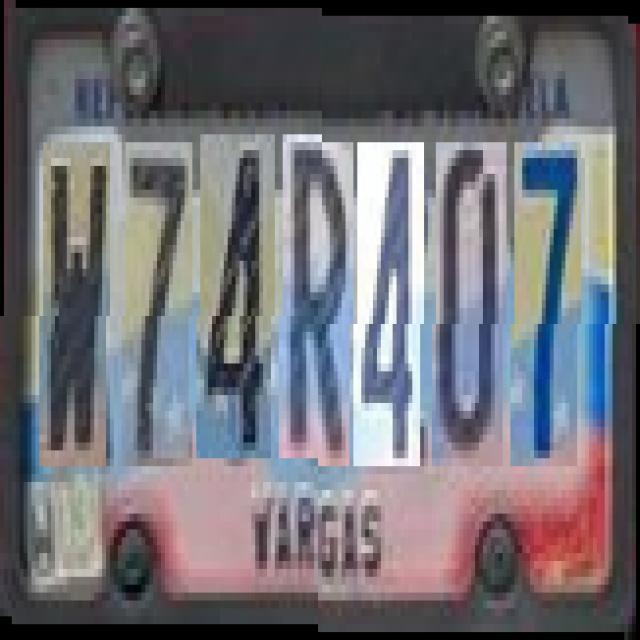0: (436, 134, 506, 458)
4: (200, 134, 275, 458), (357, 134, 424, 458)
7: (514, 134, 581, 458), (126, 142, 192, 466)
R: (282, 134, 354, 458)
W: (43, 142, 110, 466)
